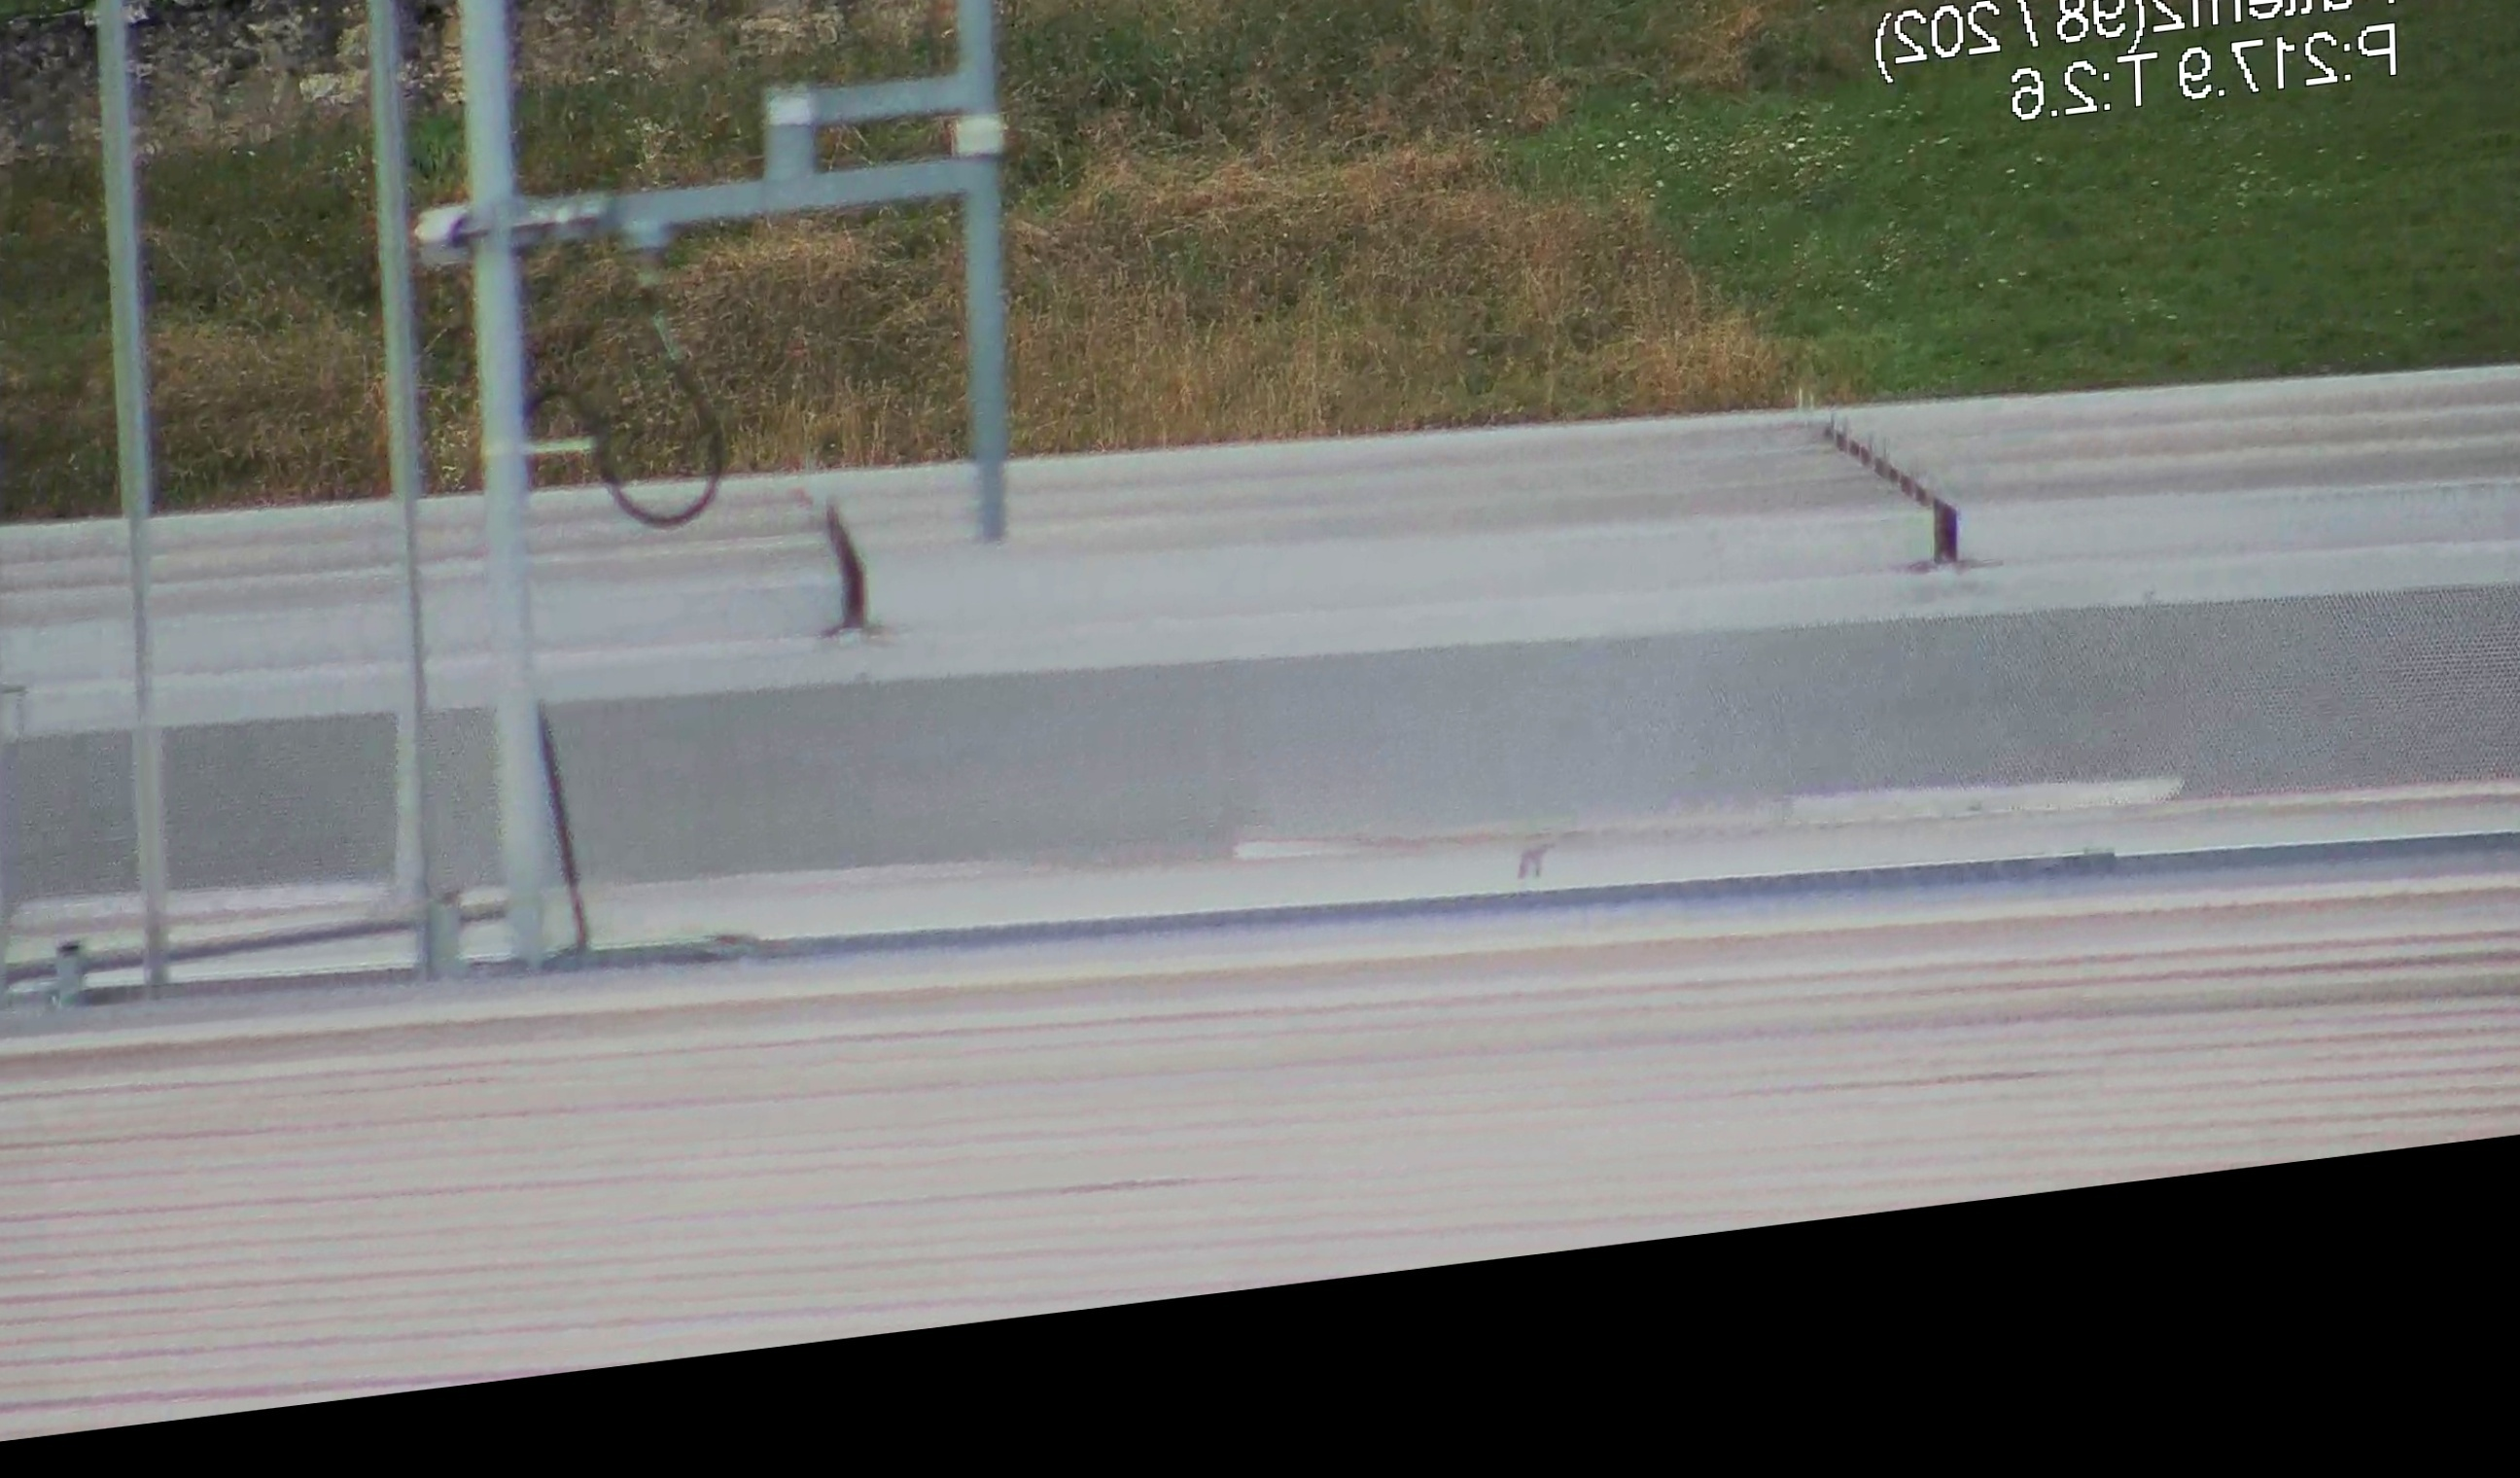Other: (795, 466, 879, 655)
